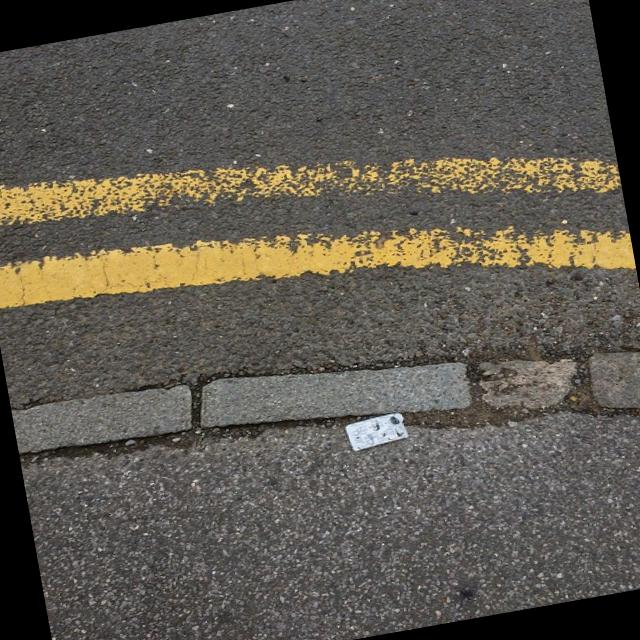Trash: (341, 409, 414, 455)
